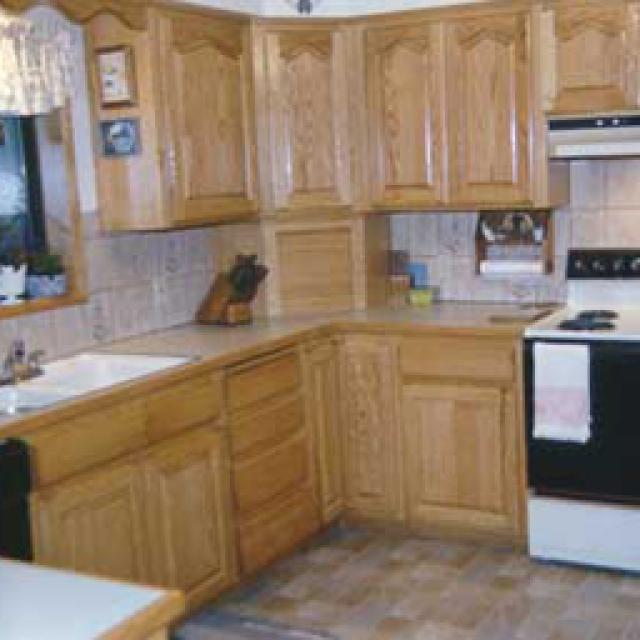2001: (5, 112, 50, 250)
cabinet door: (360, 0, 548, 210), (85, 2, 258, 228), (212, 212, 395, 318), (258, 18, 355, 210), (548, 0, 640, 110)
cabinets: (10, 328, 530, 610)
counter bottom: (98, 295, 562, 358), (5, 555, 190, 635)
cups: (385, 245, 440, 302)
curtain crop: (5, 15, 82, 110)
dish towels: (535, 338, 595, 440)
dishwasher: (2, 440, 32, 560)
floor -X: (172, 522, 640, 632)
hood: (550, 113, 640, 152)
knives: (195, 252, 275, 325)
oven cloth: (528, 245, 640, 570), (528, 338, 640, 572)
painting crop: (100, 45, 140, 105), (102, 112, 142, 152)
paper towels: (478, 208, 558, 272)
plant -x: (28, 255, 70, 292)
sink basin: (5, 340, 200, 415)
sink occluded: (2, 330, 52, 385)
stove burner: (518, 245, 640, 338)
